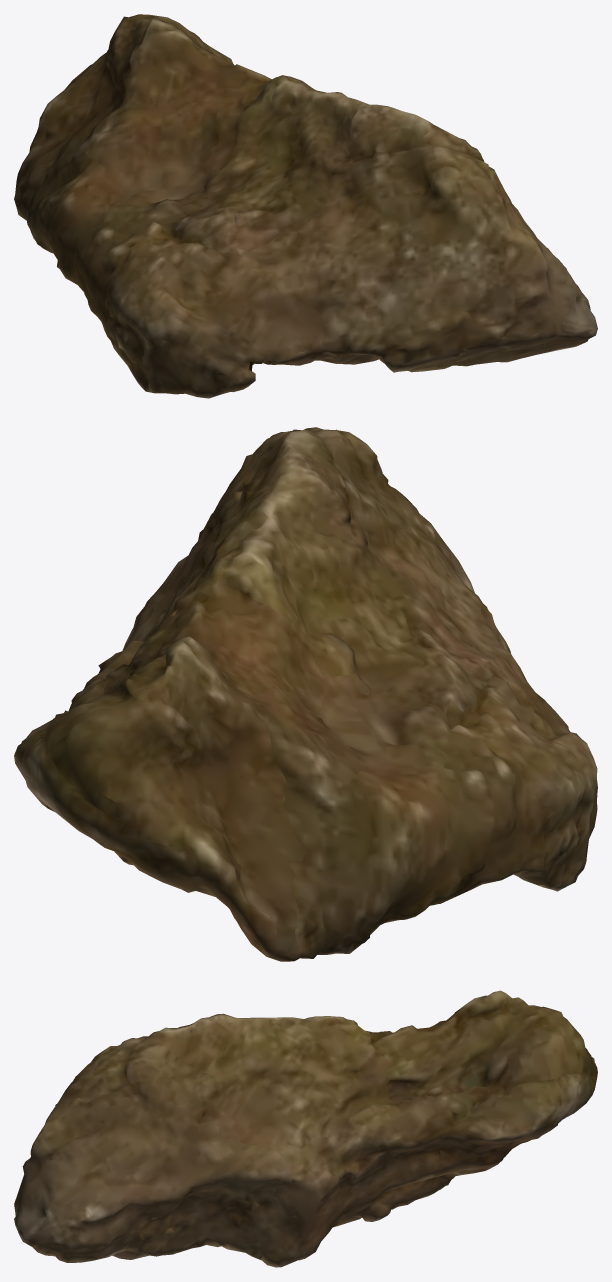
File: MossRock_a.glb
3 views of the same model, one above another, from view 1: azimuth 30°, elevation 25°; view 2: azimuth 150°, elevation 25°; view 3: azimuth 270°, elevation 25° (orthographic). The views are drawn at different scales.
Parts seen in each view (by area): view 1: rock_moss_set_01_rock01; view 2: rock_moss_set_01_rock01; view 3: rock_moss_set_01_rock01.
Part boxes in pixels (left/top/right/bottom): rock_moss_set_01_rock01: left=14, top=14, right=597, bottom=398; rock_moss_set_01_rock01: left=14, top=427, right=597, bottom=961; rock_moss_set_01_rock01: left=14, top=990, right=597, bottom=1267.
Size of the model in its own units: 2.24 by 1.47 by 3.37.
1 material, 1 textured.
